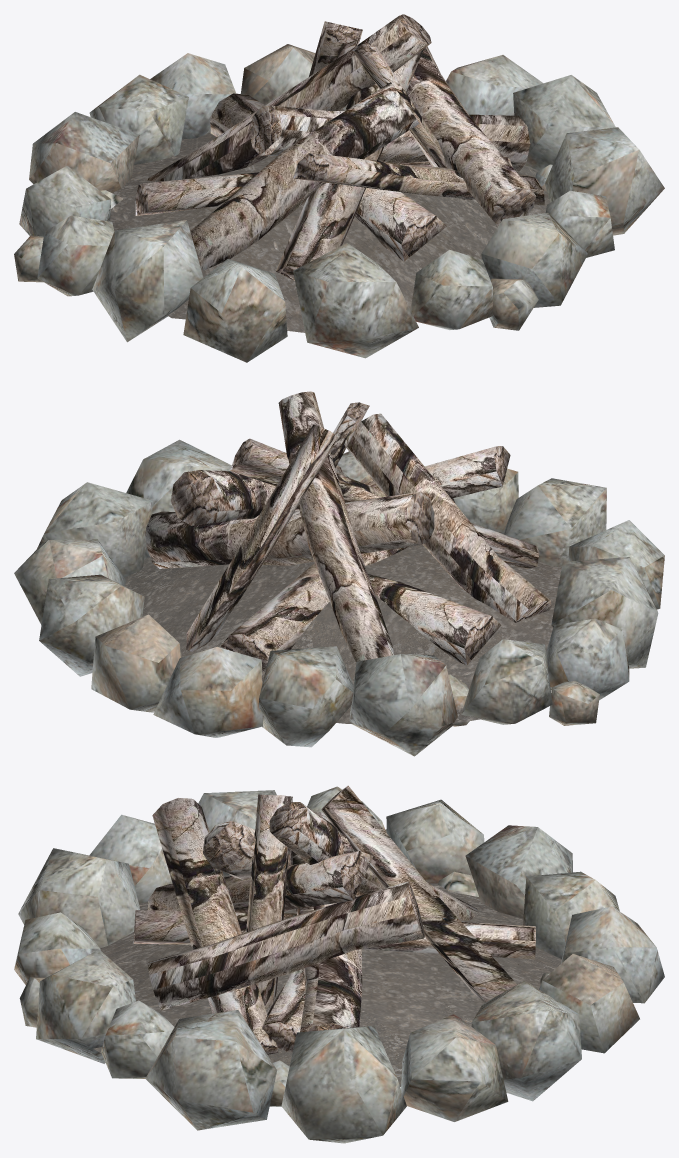
Rendered from bonfire.obj.
The picture shows the model from 3 angles, top to bottom: view 1: azimuth 30°, elevation 25°; view 2: azimuth 150°, elevation 25°; view 3: azimuth 270°, elevation 25°; orthographic projection. The views are drawn at different scales.
Parts seen in each view (by area): view 1: Plane; view 2: Plane; view 3: Plane.
Part boxes in pixels (x1,y1,x2,y2): Plane: [14, 14, 664, 362]; Plane: [14, 391, 664, 756]; Plane: [14, 785, 664, 1143].
Bounding box in the file's own units: 6.26 × 2.38 × 5.79.
